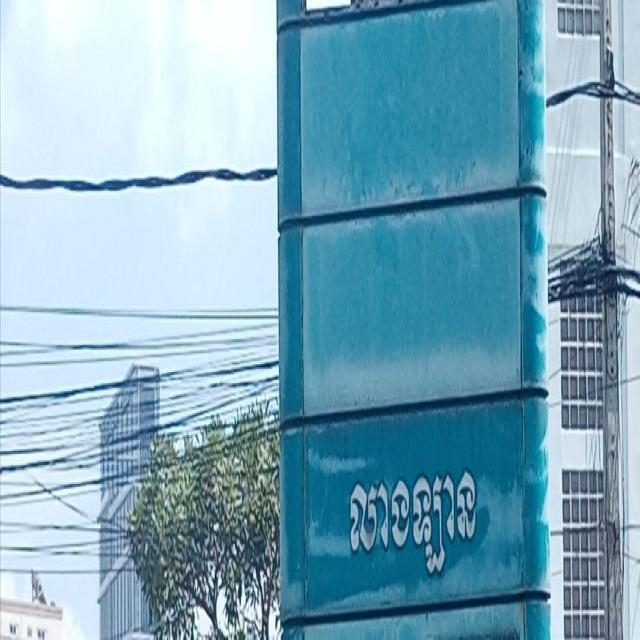Yolov11kh: (342, 438, 488, 601)
